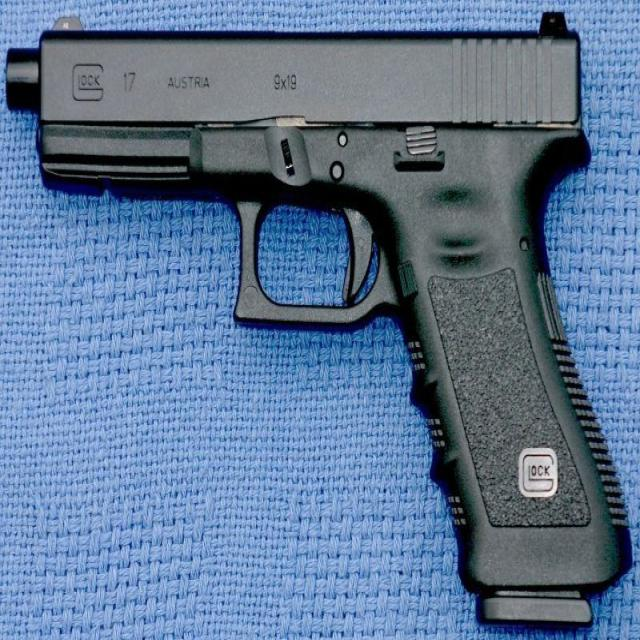pistol: (5, 9, 634, 636)
